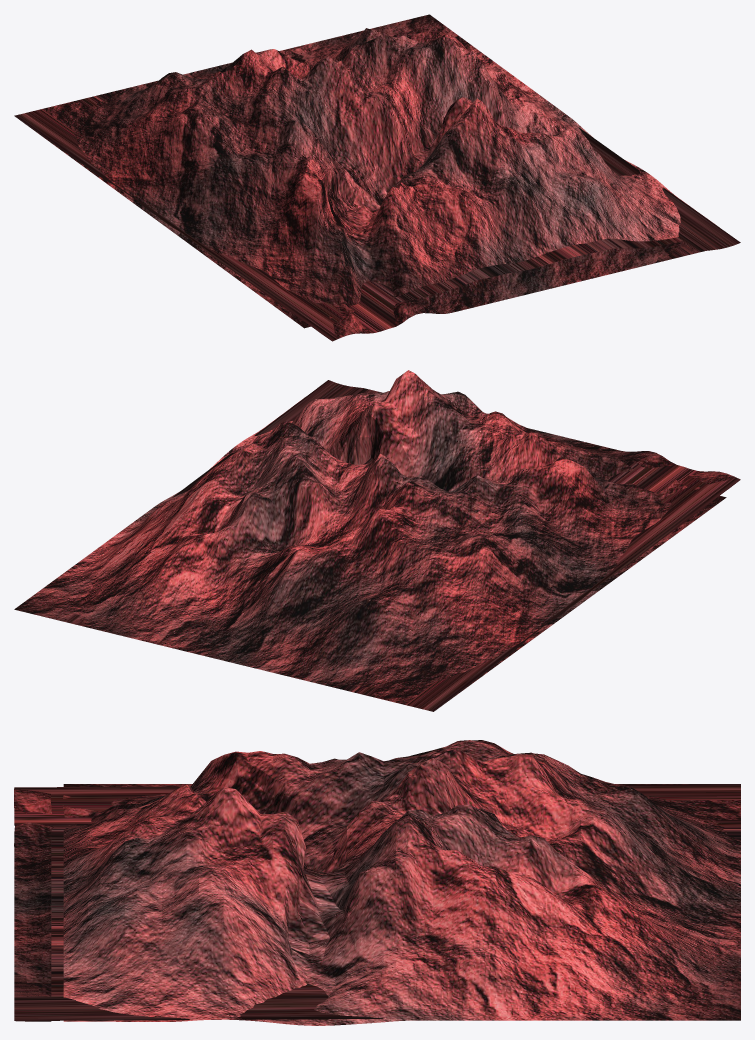
File: mountain.obj
3 views of the same model, one above another, from view 1: azimuth 30°, elevation 25°; view 2: azimuth 150°, elevation 25°; view 3: azimuth 270°, elevation 25° (orthographic). The views are drawn at different scales.
Visible parts, largest first — view 1: Landscape; view 2: Landscape; view 3: Landscape.
Boxes of the visible parts, box(x1,y1,x2,y2) form: Landscape: box(14, 14, 740, 341); Landscape: box(14, 370, 740, 711); Landscape: box(14, 740, 740, 1025).
Size of the model in its own units: 6.47 by 1.88 by 8.39.
Materials: 1 (1 with a texture image).
